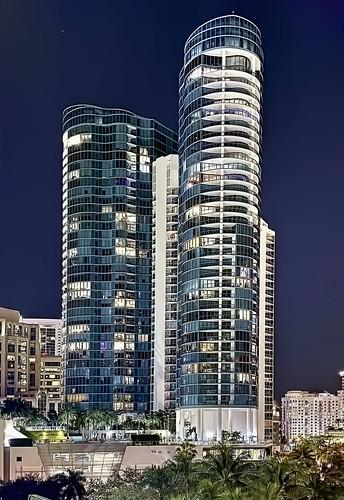building: (52, 90, 170, 444), (172, 7, 266, 451)
